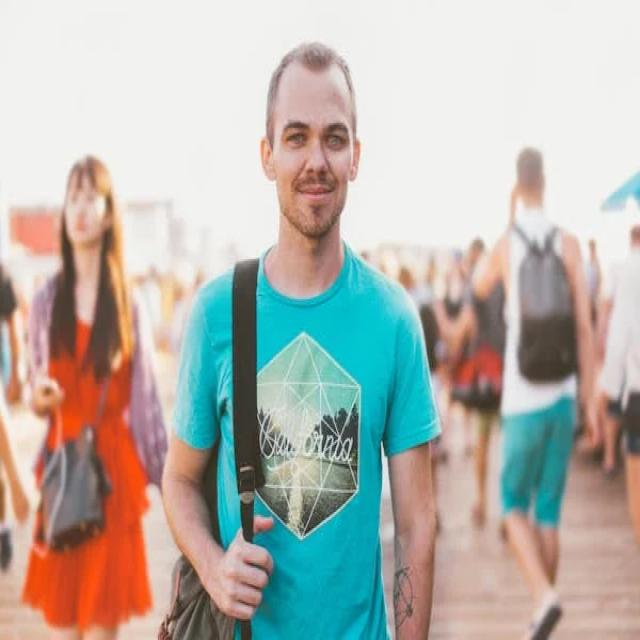Real human 2: (156, 27, 458, 640)
